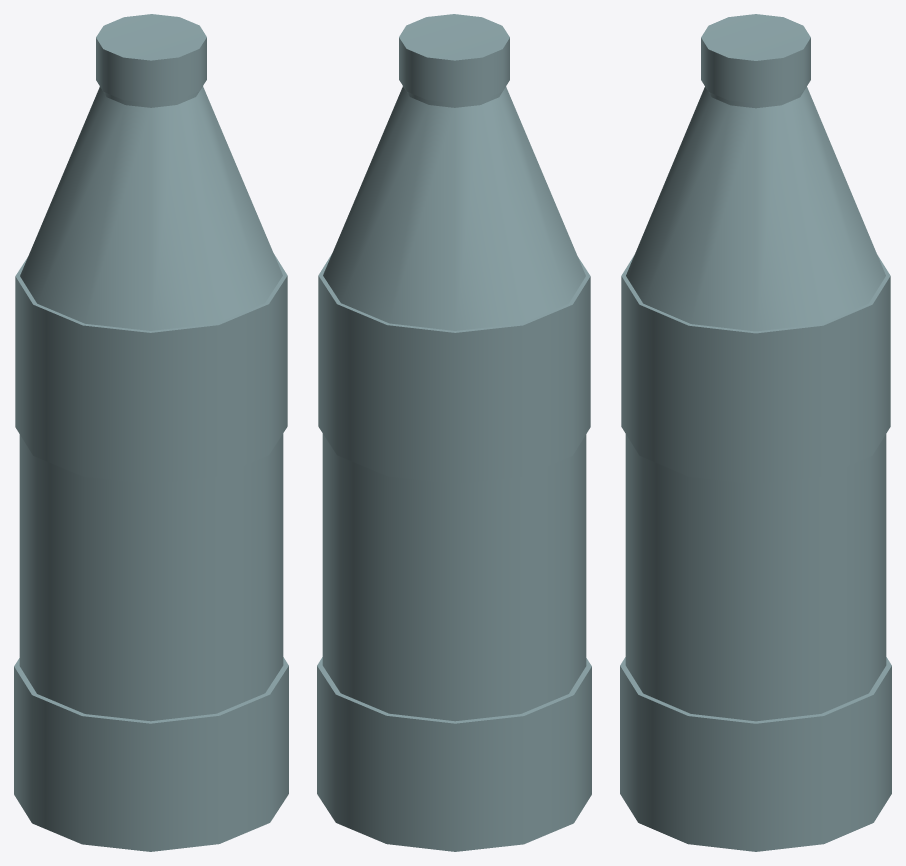
Rendered from Botella1_FBX.fbx.
The picture shows the model from 3 angles, left to right: view 1: azimuth 30°, elevation 25°; view 2: azimuth 150°, elevation 25°; view 3: azimuth 270°, elevation 25°; orthographic projection.
Parts seen in each view (by area): view 1: pCylinder6; view 2: pCylinder6; view 3: pCylinder6.
Part boxes in pixels (bbox=[...]): pCylinder6: bbox=[14, 14, 288, 851]; pCylinder6: bbox=[317, 14, 591, 851]; pCylinder6: bbox=[620, 14, 891, 851].
Bounding box in the file's own units: 0.6059 × 1.83 × 0.5979.
